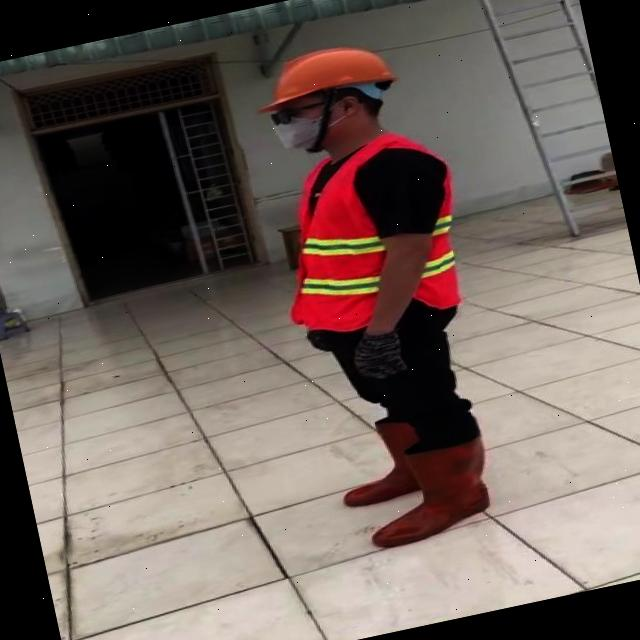boots: (319, 393, 479, 514), (351, 432, 499, 550)
helmet: (252, 32, 401, 112)
vest: (264, 132, 484, 344)
